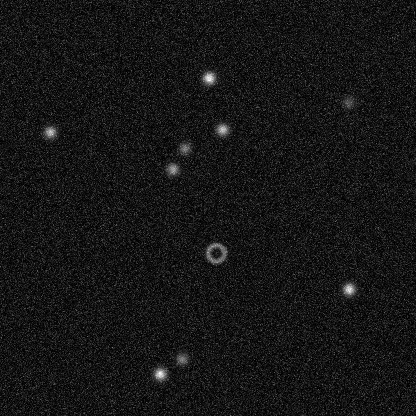Ring: (203, 240, 227, 264)
Spot: (340, 94, 356, 110), (214, 121, 230, 137), (164, 161, 180, 177), (176, 140, 192, 156), (200, 70, 216, 86), (340, 281, 356, 297), (151, 365, 167, 381), (41, 124, 57, 140), (173, 351, 189, 367)
